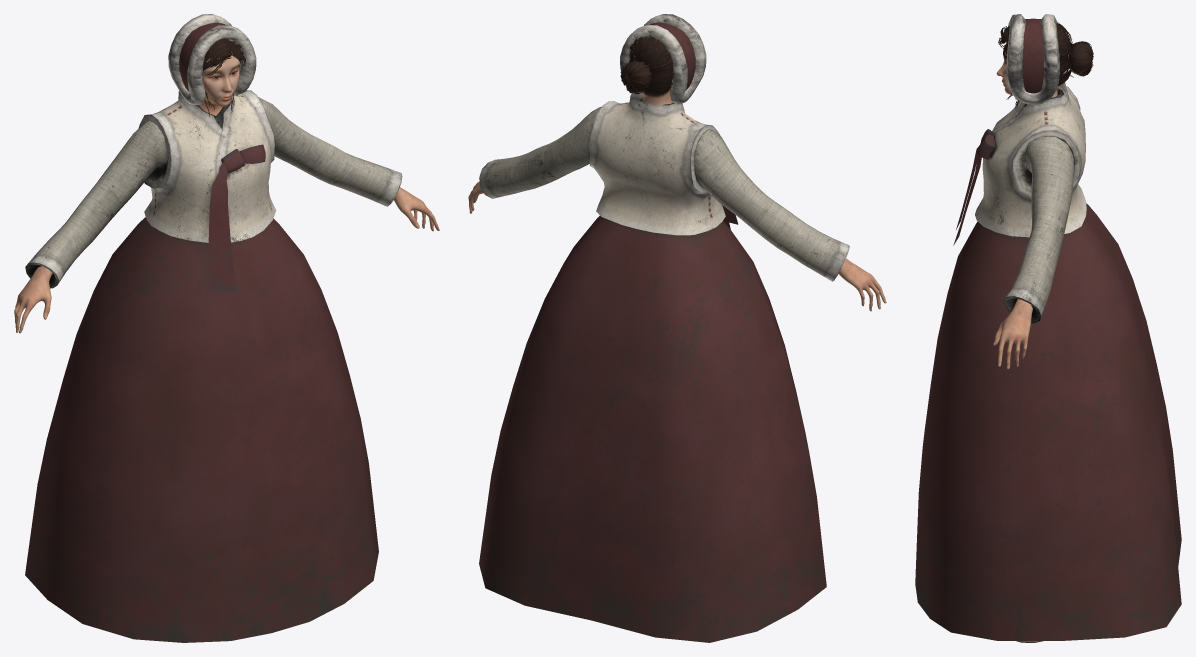
Rendered from npc_01.fbx.
The picture shows the model from 3 angles, left to right: view 1: azimuth 30°, elevation 25°; view 2: azimuth 150°, elevation 25°; view 3: azimuth 270°, elevation 25°; orthographic projection.
Visible parts, largest first — view 1: npc_01, npc_01_head, hair2; view 2: npc_01, hair2, npc_01_head; view 3: npc_01, npc_01_head, hair2.
Boxes of the visible parts, bbox=[...] form: npc_01: bbox=[25, 14, 402, 642]; npc_01_head: bbox=[14, 41, 439, 333]; hair2: bbox=[179, 38, 245, 116]; npc_01: bbox=[479, 14, 849, 642]; hair2: bbox=[620, 35, 673, 95]; npc_01_head: bbox=[468, 40, 886, 311]; npc_01: bbox=[915, 14, 1181, 642]; npc_01_head: bbox=[993, 40, 1067, 369]; hair2: bbox=[998, 22, 1093, 108].
Size of the model in its own units: 238 by 323 by 131.
